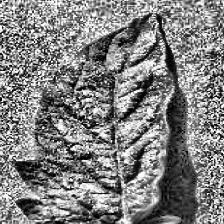spider mites: (19, 14, 178, 224)
